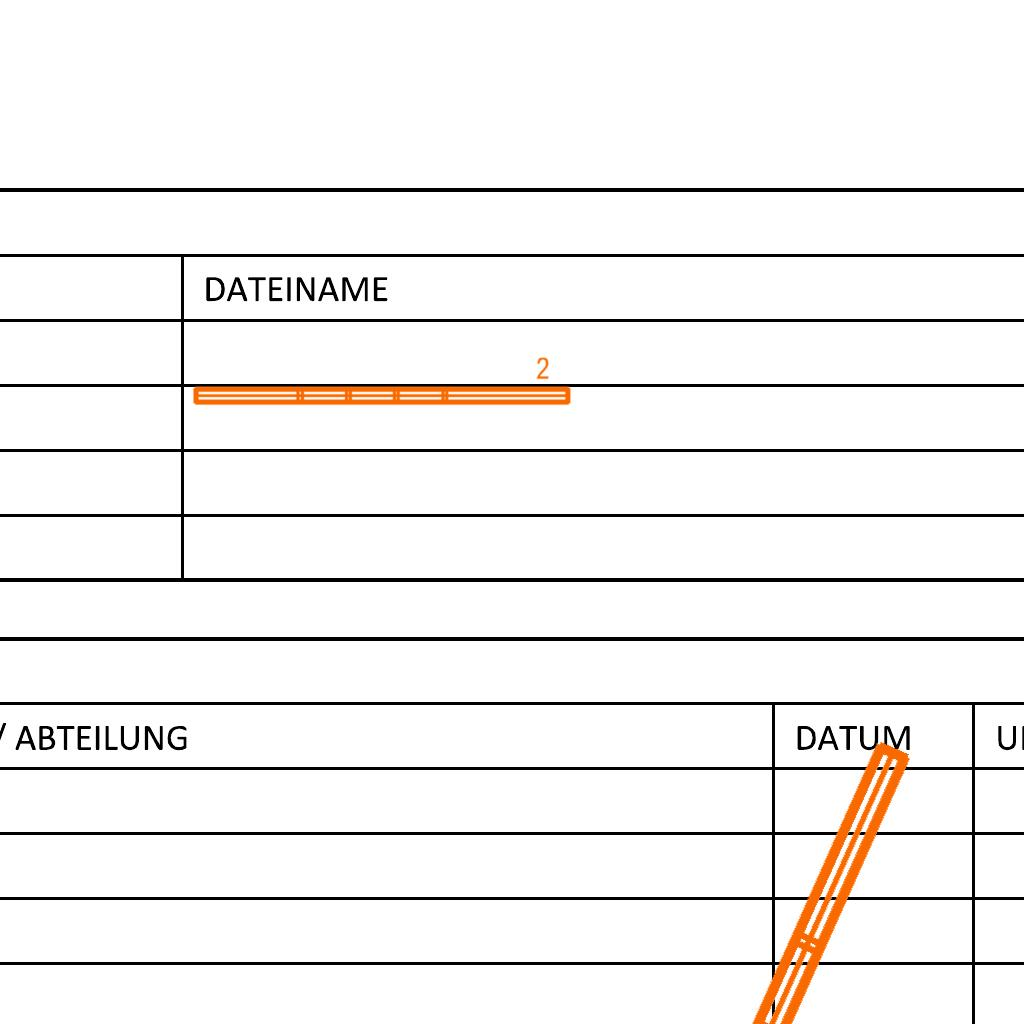Ambulanz_Pendelleuchte_LED: (556, 725, 974, 1024), (188, 355, 575, 411)
